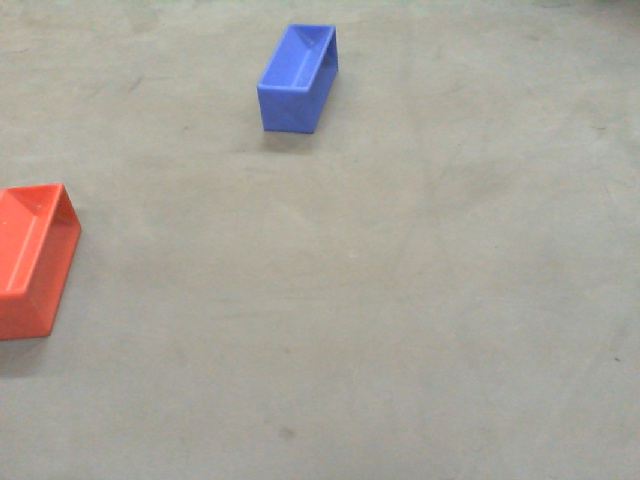BlueSample: (252, 21, 343, 143)
RedSample: (1, 178, 83, 342)
